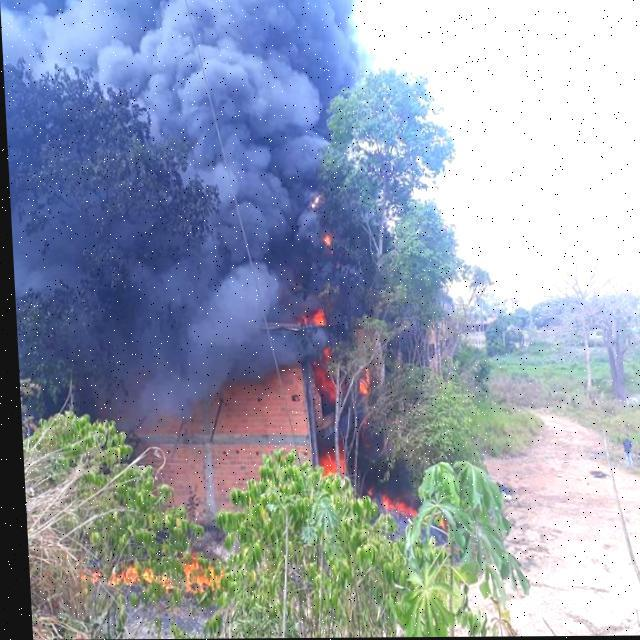Fire: (175, 560, 213, 589), (374, 494, 412, 522), (310, 360, 336, 400), (314, 442, 340, 472), (303, 306, 322, 328)
